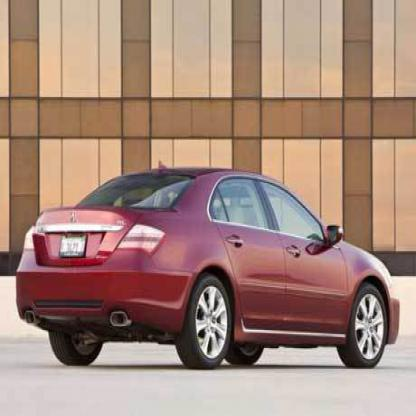Vehicle: (15, 159, 402, 373)
